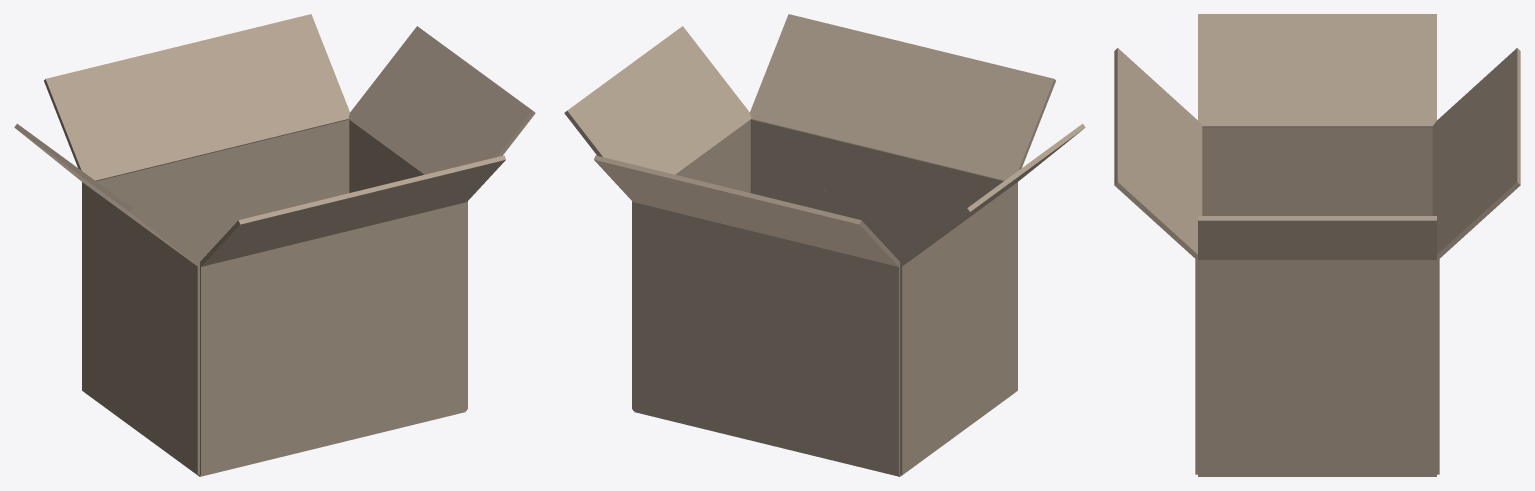
File: CardboardBox.glb
3 renders of one model, left to right at view 1: azimuth 30°, elevation 25°; view 2: azimuth 150°, elevation 25°; view 3: azimuth 270°, elevation 25°, orthographic. The views are drawn at different scales.
Visible parts, largest first — view 1: boxF, boxTopB, boxR, boxB, boxTopL, boxTopF, boxL, boxTopR; view 2: boxB, boxTopF, boxR, boxF, boxTopL, boxTopB, boxL, boxTopR; view 3: boxL, boxTopR, boxR, boxTopF, boxTopB, boxTopL, boxF, boxB, boxBottom.
Boxes of the visible parts, <box> form: boxF: <box>200,202,466,475</box>; boxTopB: <box>44,14,349,181</box>; boxR: <box>82,182,199,474</box>; boxB: <box>96,119,349,261</box>; boxTopL: <box>348,26,535,174</box>; boxTopF: <box>200,155,505,267</box>; boxL: <box>349,120,467,409</box>; boxTopR: <box>14,123,199,267</box>; boxB: <box>633,202,899,475</box>; boxTopF: <box>750,14,1055,181</box>; boxR: <box>900,182,1017,474</box>; boxF: <box>750,119,1003,261</box>; boxTopL: <box>564,26,751,174</box>; boxTopB: <box>594,155,899,266</box>; boxL: <box>632,120,750,409</box>; boxTopR: <box>900,123,1085,267</box>; boxL: <box>1198,260,1436,475</box>; boxTopR: <box>1198,14,1436,127</box>; boxR: <box>1202,127,1432,215</box>; boxTopF: <box>1114,48,1202,258</box>; boxTopB: <box>1432,48,1520,258</box>; boxTopL: <box>1198,216,1436,259</box>; boxF: <box>1195,258,1197,474</box>; boxB: <box>1437,258,1439,474</box>; boxBottom: <box>1198,475,1436,476</box>.
Bounding box in the file's own units: 9.53 × 6.39 × 7.99.
